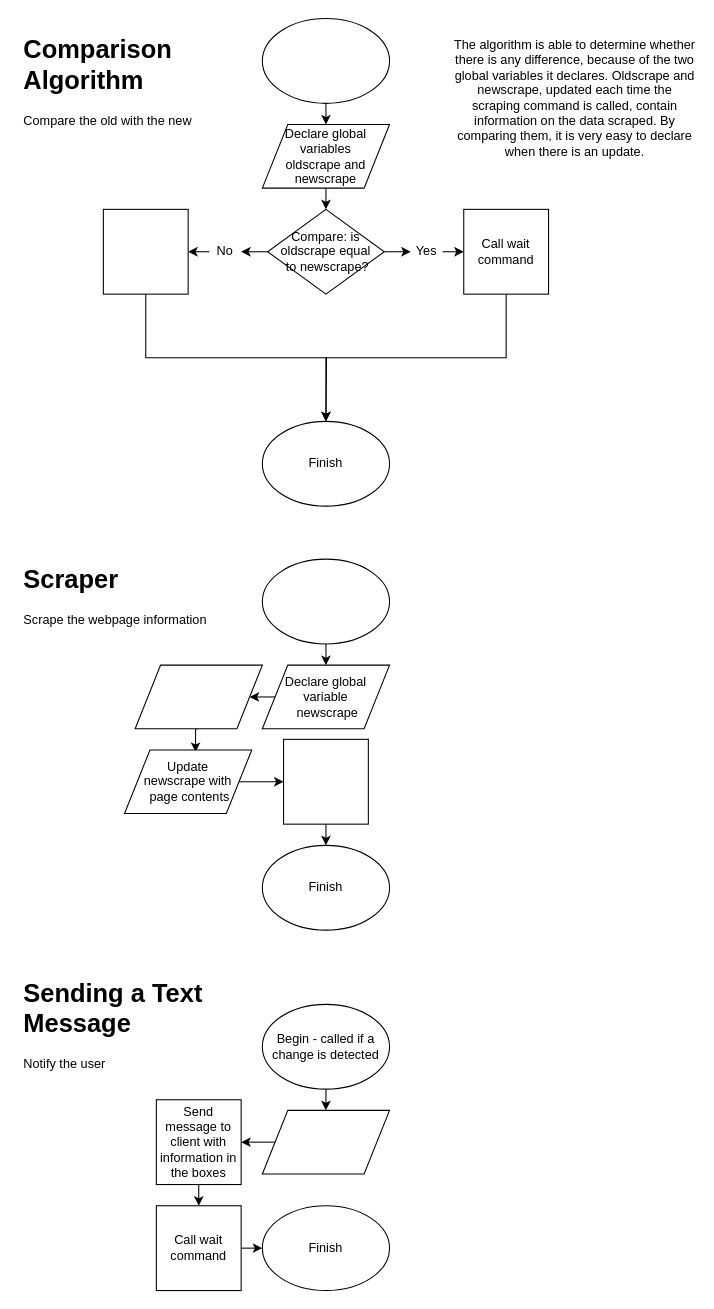
This 714x1309 diagram has some shape labels left out. The box of each missing label's shape, as (x1, y1, x2, y2) in pixels:
Begin: (261, 558, 390, 644)
Begin - called after data is scraped.: (261, 17, 390, 103)
Call command to send a text message: (102, 208, 188, 294)
Call comparison algorithm: (282, 738, 368, 824)
Collect information in entry boxes: (261, 1109, 390, 1174)
Grab page contents: (134, 664, 262, 729)
